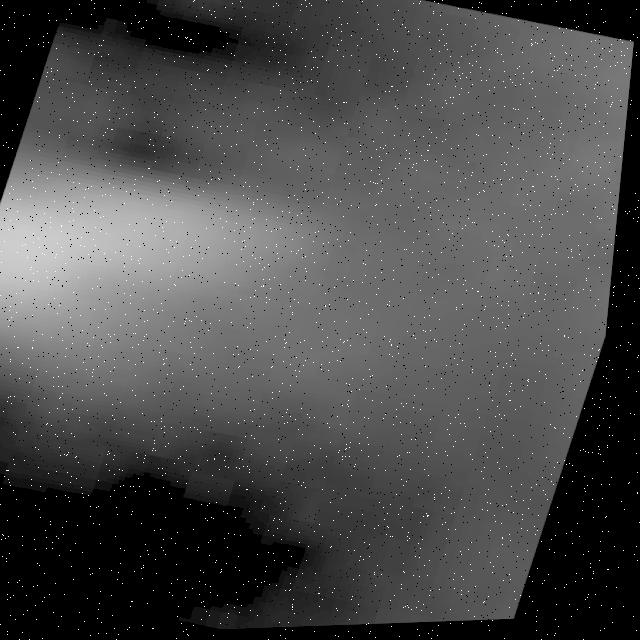person: (1, 94, 440, 463)
